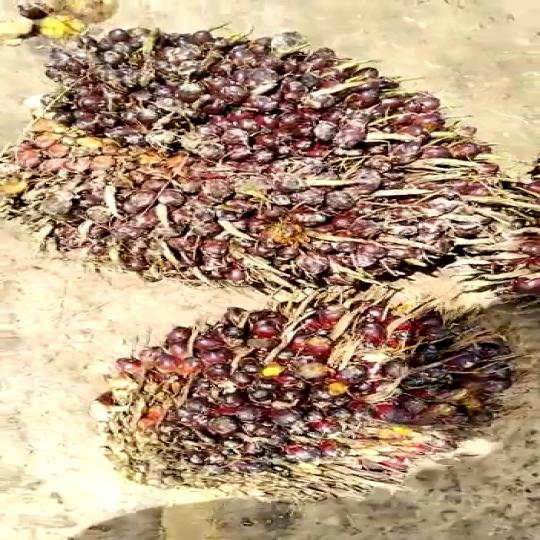kurang masak: (13, 24, 504, 302), (105, 288, 504, 502)
